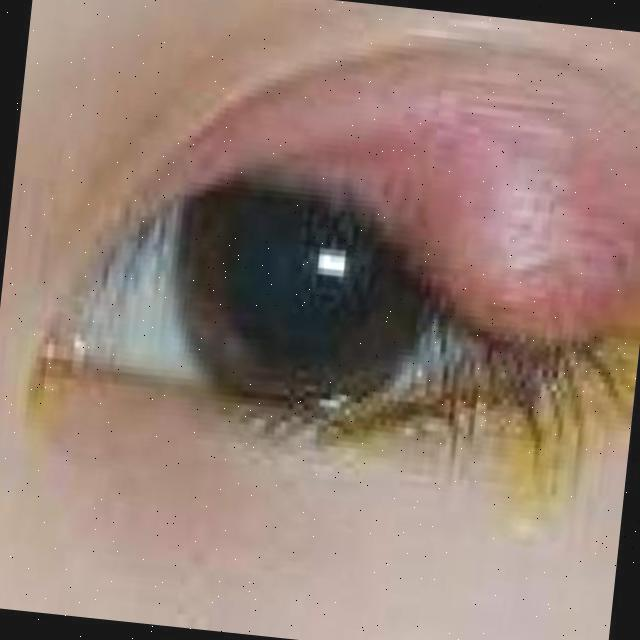Stye: (150, 50, 640, 357)
